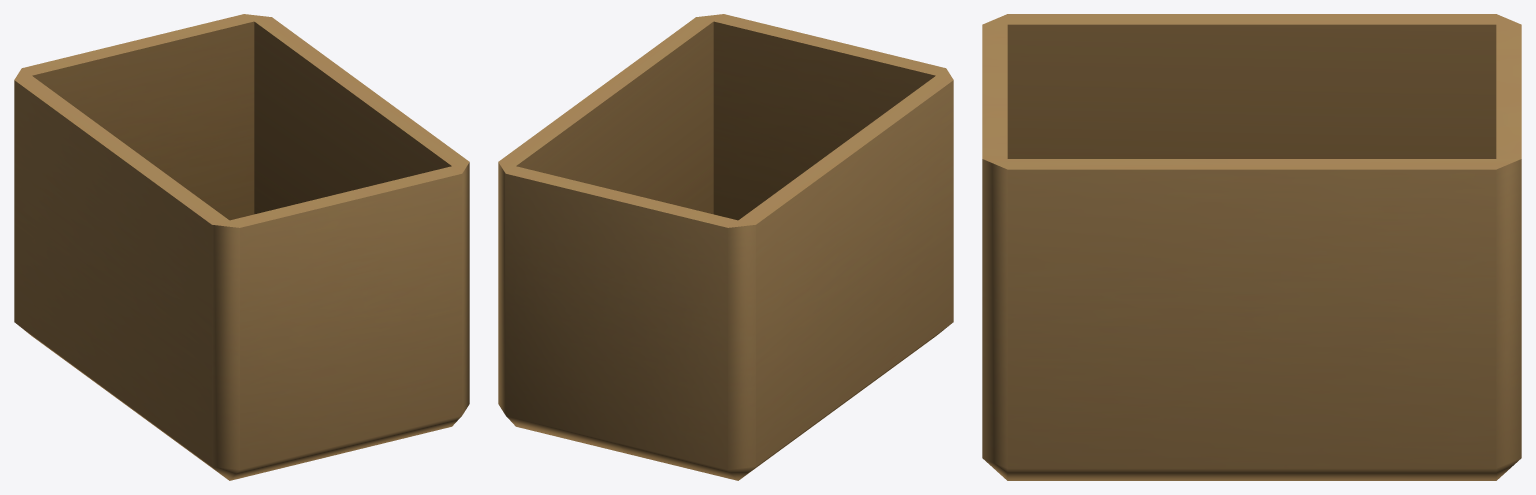
The model's file is box_cardboard_rectangle_open.fbx.
The picture shows the model from 3 angles, left to right: view 1: azimuth 30°, elevation 25°; view 2: azimuth 150°, elevation 25°; view 3: azimuth 270°, elevation 25°; orthographic projection. The views are drawn at different scales.
Parts seen in each view (by area): view 1: box_cardboard_rectangle_open; view 2: box_cardboard_rectangle_open; view 3: box_cardboard_rectangle_open.
Part boxes in pixels (left/top/right/bottom): box_cardboard_rectangle_open: left=14, top=14, right=469, bottom=480; box_cardboard_rectangle_open: left=498, top=14, right=953, bottom=480; box_cardboard_rectangle_open: left=982, top=14, right=1521, bottom=480.
Size of the model in its own units: 53.69 by 51.84 by 78.69.
